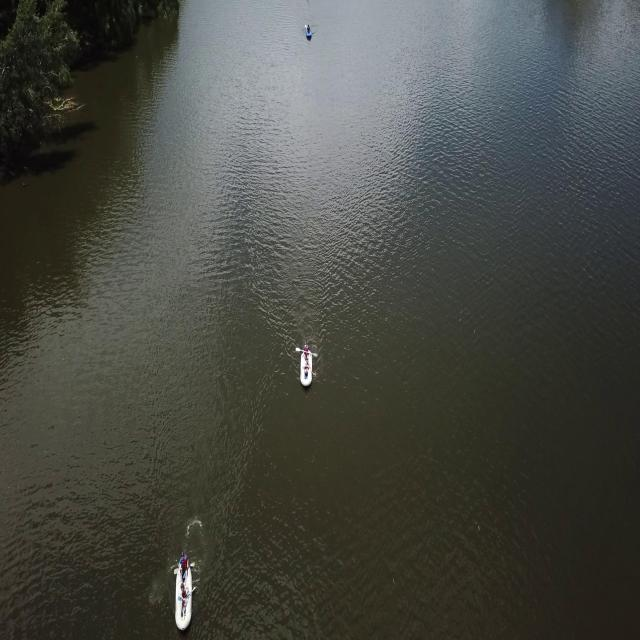kayak: (169, 552, 200, 638), (296, 342, 318, 391), (304, 22, 315, 42)
